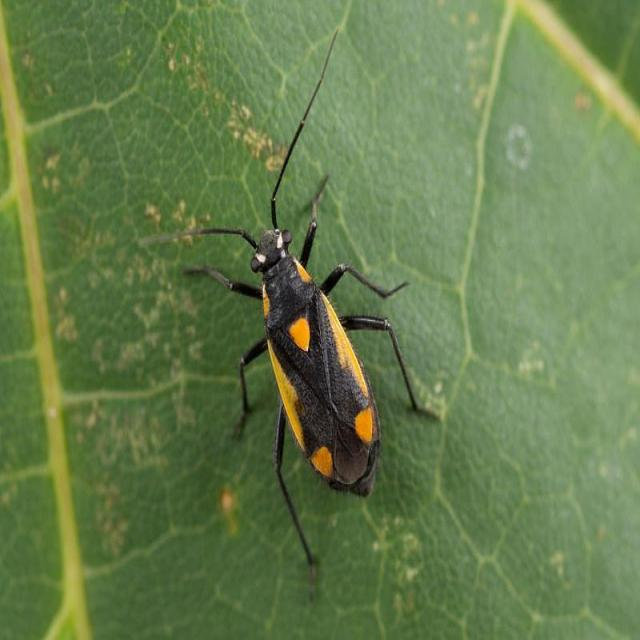Miridae-Adult-: (133, 48, 446, 558)
